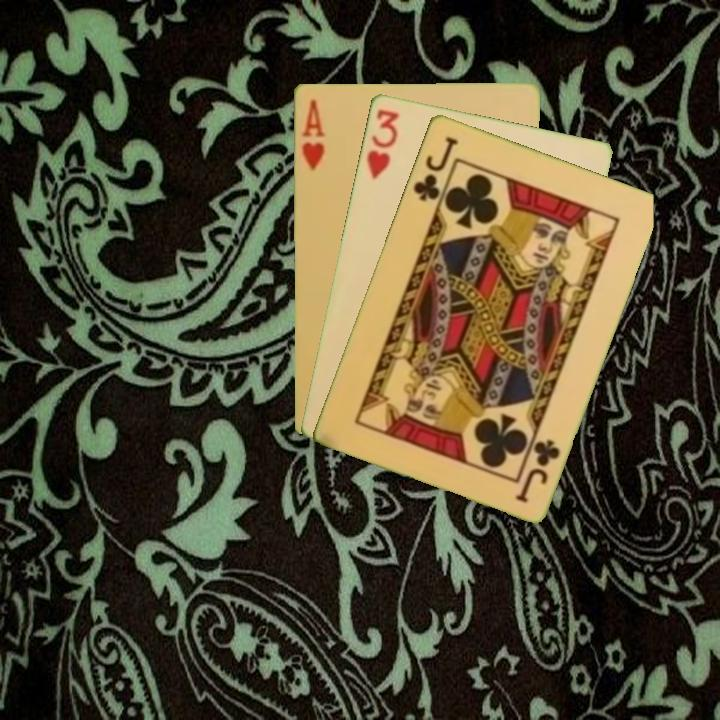3h: (363, 105, 402, 182)
Ah: (297, 95, 327, 173)
Jc: (409, 132, 461, 204), (511, 435, 563, 505)
